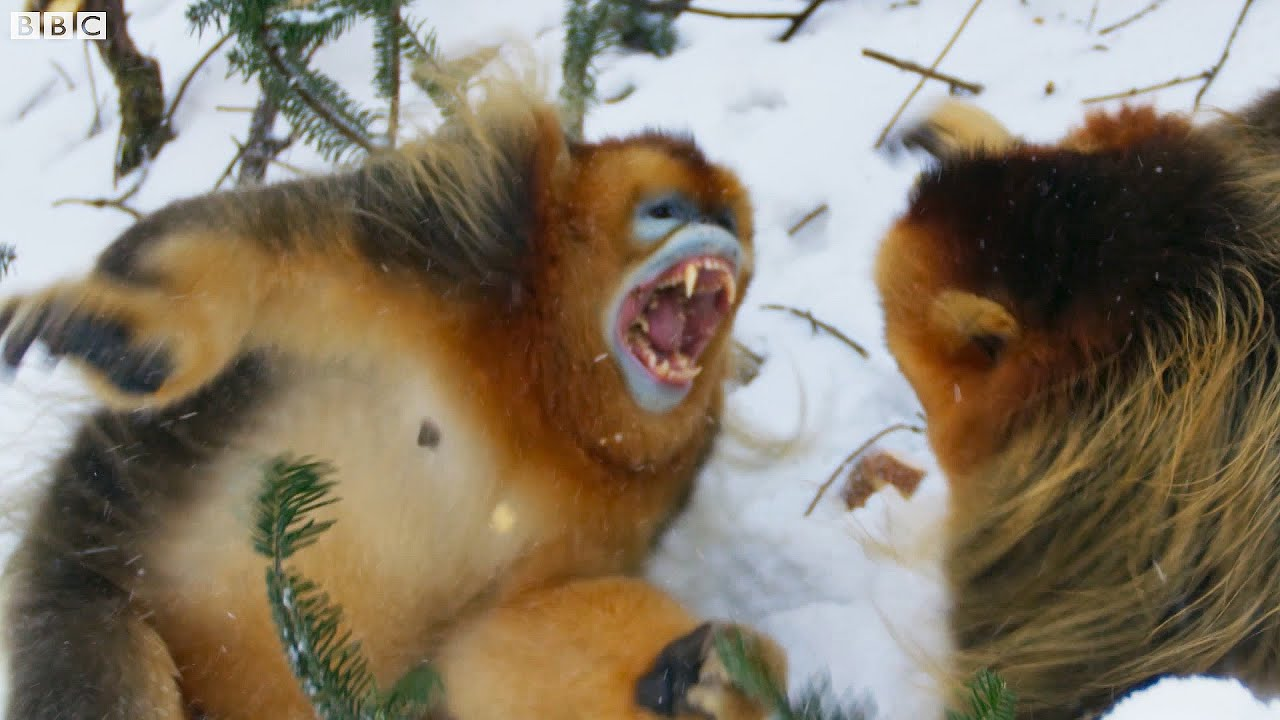GoldenSnub-Nosed: (46, 130, 809, 676), (860, 121, 1258, 666)
